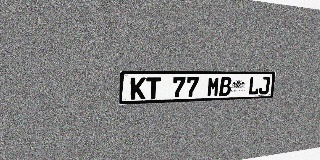plate: (119, 71, 276, 105)
